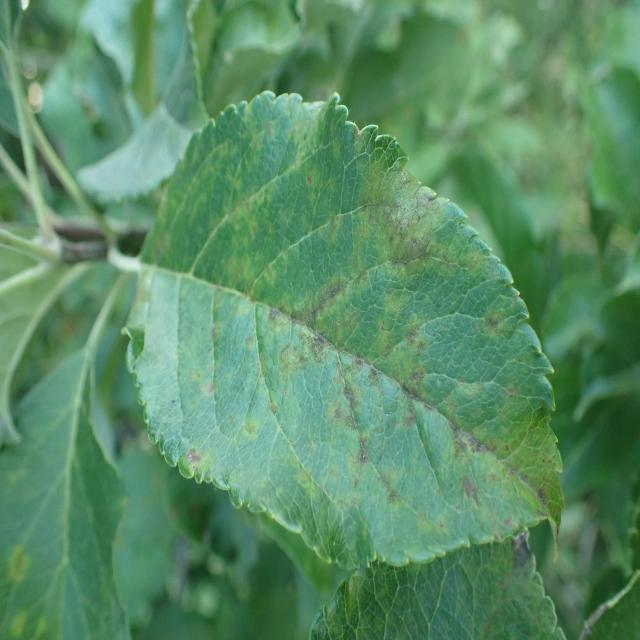scab: (143, 104, 556, 562)
